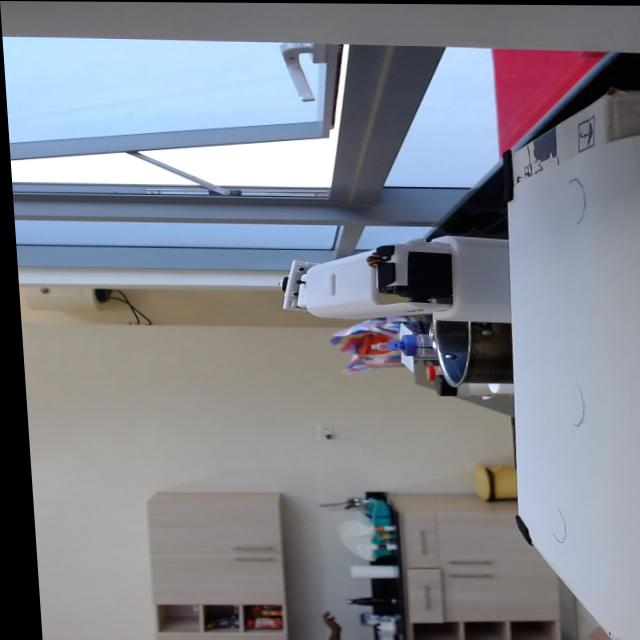cooking_pot: (414, 309, 508, 386)
